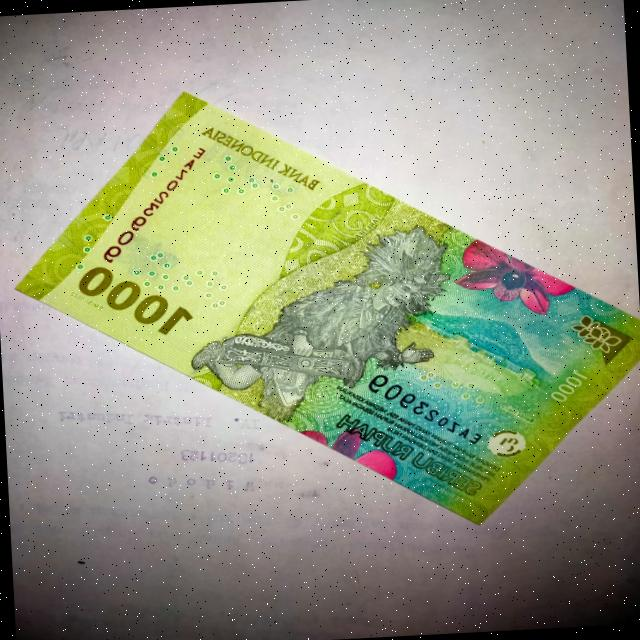1K: (12, 65, 640, 559)
